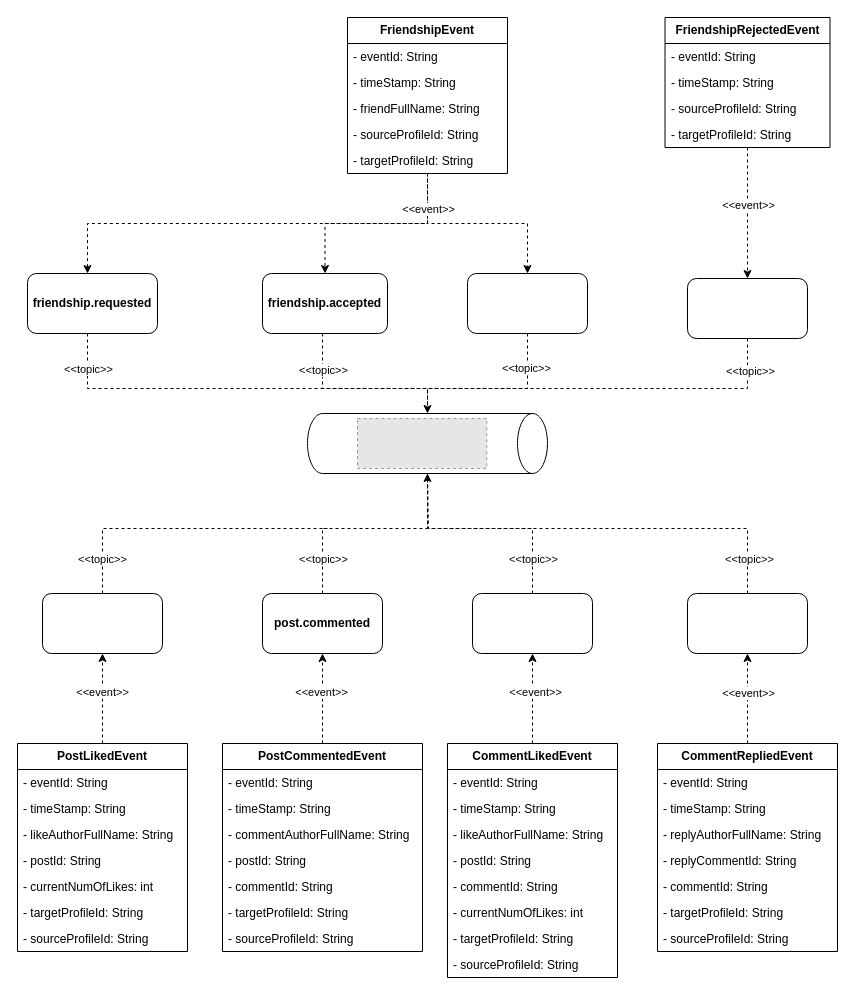
Image size: 855x998. Some labels were removed from this diagram. Grey dashed boxes stand in for pictures. The centre of each missing label's shape, as x and y in pixels:
comment.liked: point 532,623
comment.replied: point 747,623
friendship.followed: point 527,303
friendship.rejected: point 747,308
post.liked: point 102,623
